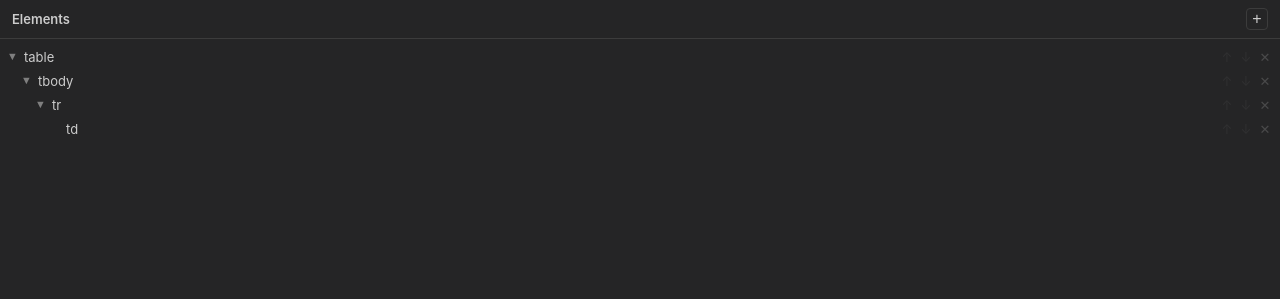
Test: ElementsPanel › shows a warning when the shape cannot be inserted
Step 1. Click the button named "Add shape" → (1257, 19), box [1246,8,1268,30]
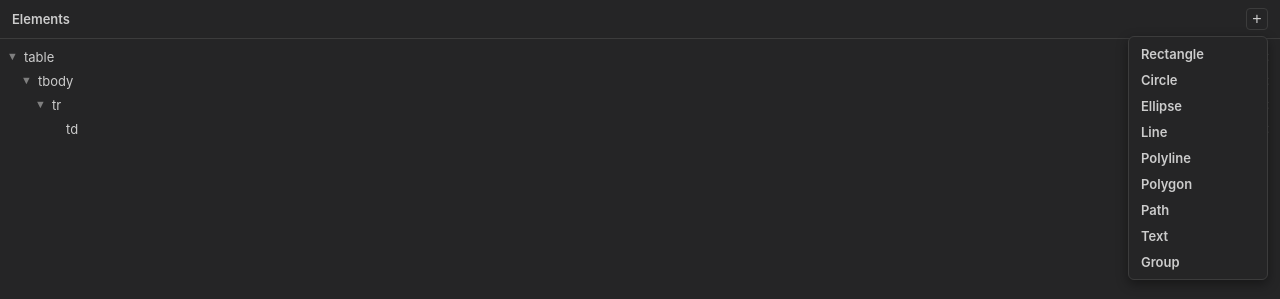
Step 2. Click the menu item "Rectangle" → (1198, 54), box [1133,41,1263,67]
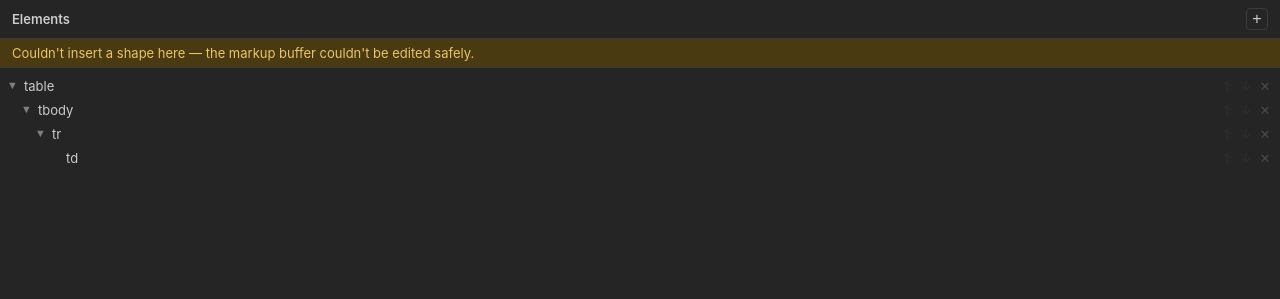
Now the message "Couldn't insert a shape here — the markup buffer couldn't be edited safely." is shown, box [0,39,1279,68]
